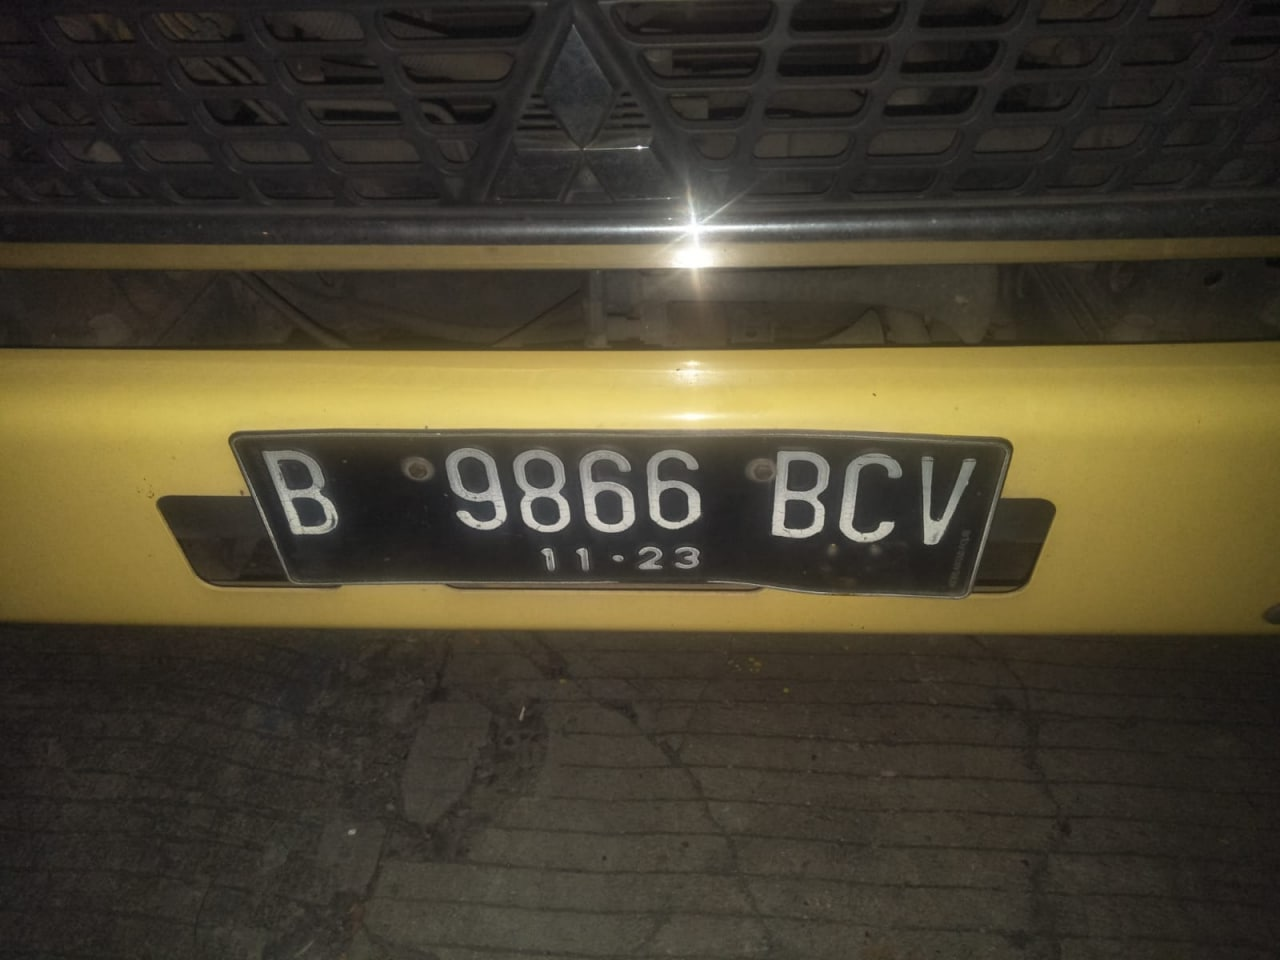plate: (249, 438, 992, 597)
